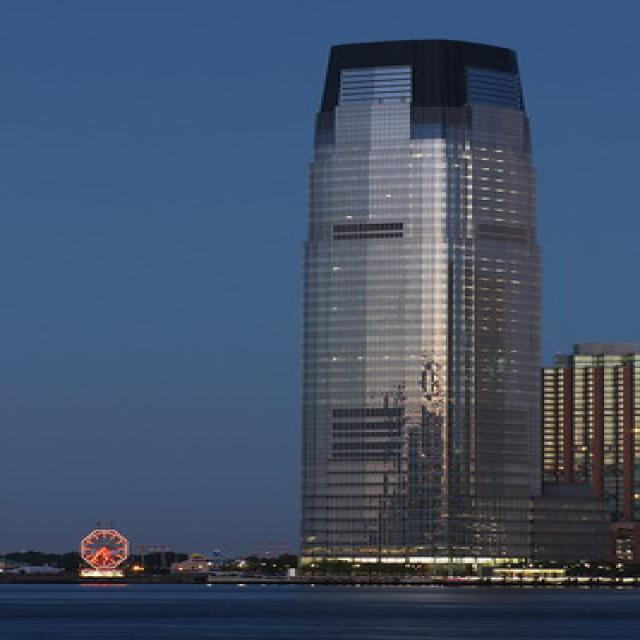building: (295, 33, 551, 580)
